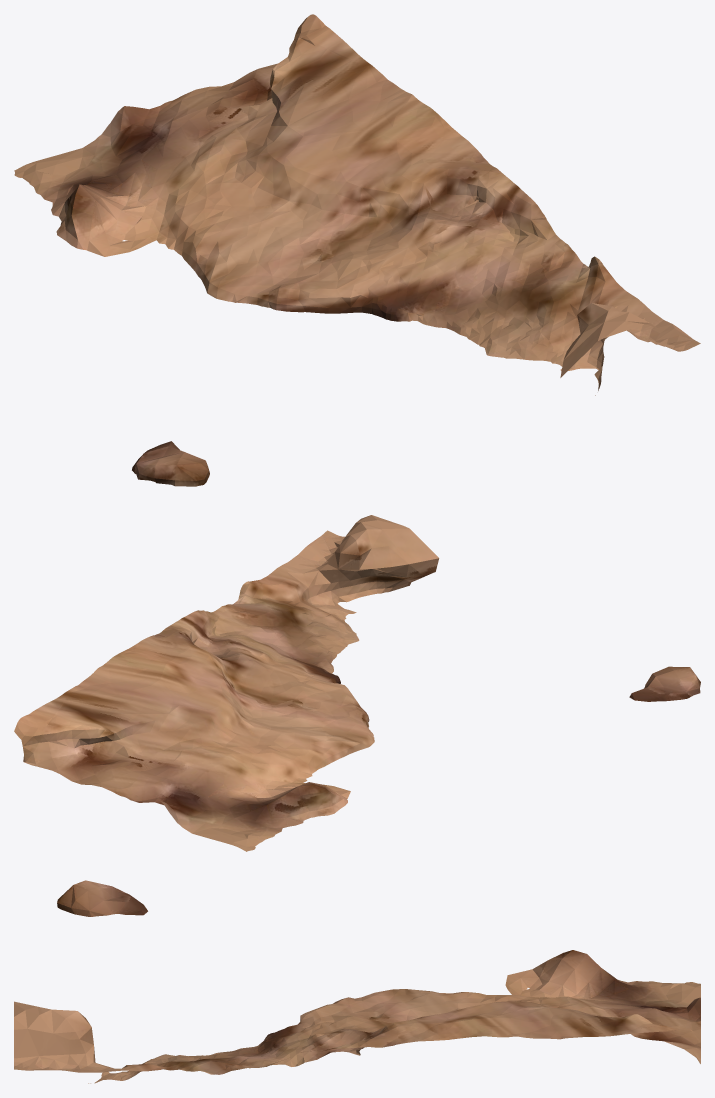
The picture shows the model from 3 angles, top to bottom: view 1: azimuth 30°, elevation 25°; view 2: azimuth 150°, elevation 25°; view 3: azimuth 270°, elevation 25°; orthographic projection. The views are drawn at different scales.
Size of the model in its own units: 0.7893 by 0.1324 by 1.04.
Materials: 1 (1 with a texture image).
